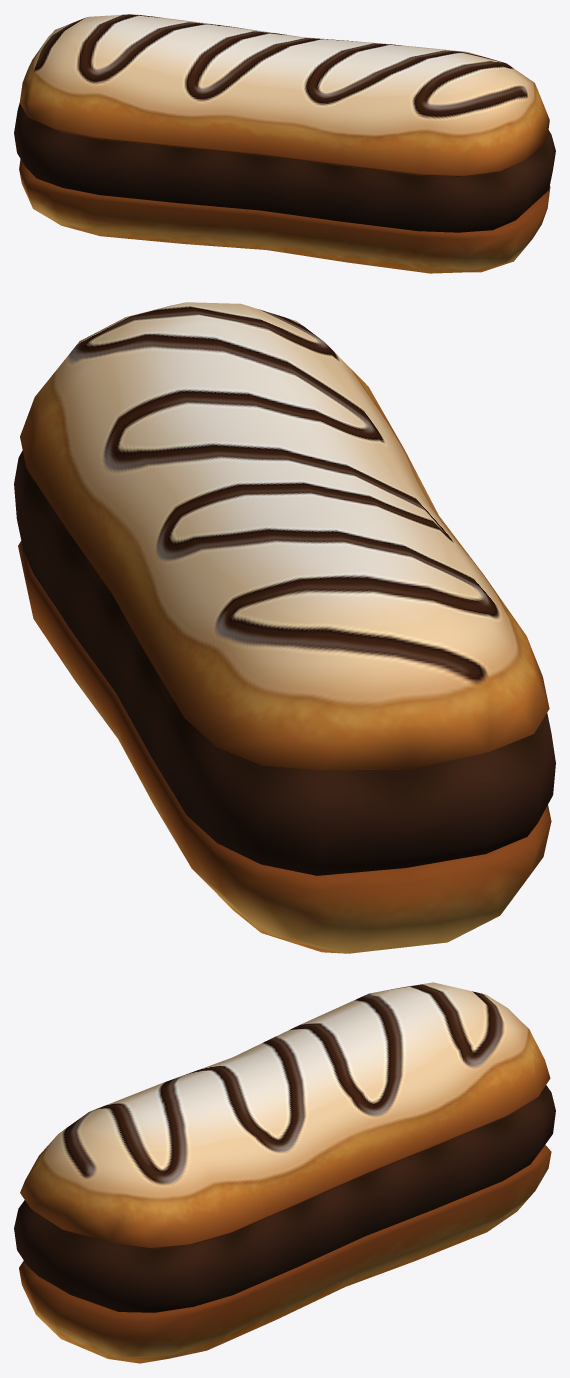
Rendered from 009-Eclairs_02.FBX.
The picture shows the model from 3 angles, top to bottom: view 1: azimuth 30°, elevation 25°; view 2: azimuth 150°, elevation 25°; view 3: azimuth 270°, elevation 25°; orthographic projection. The views are drawn at different scales.
Visible parts, largest first — view 1: 009-Eclairs_02; view 2: 009-Eclairs_02; view 3: 009-Eclairs_02.
Boxes of the visible parts, x1=… form: 009-Eclairs_02: x1=14, y1=14, x2=555, y2=273; 009-Eclairs_02: x1=14, y1=302, x2=555, y2=953; 009-Eclairs_02: x1=14, y1=982, x2=555, y2=1363.
Size of the model in its own units: 17.37 by 7.97 by 17.37.
